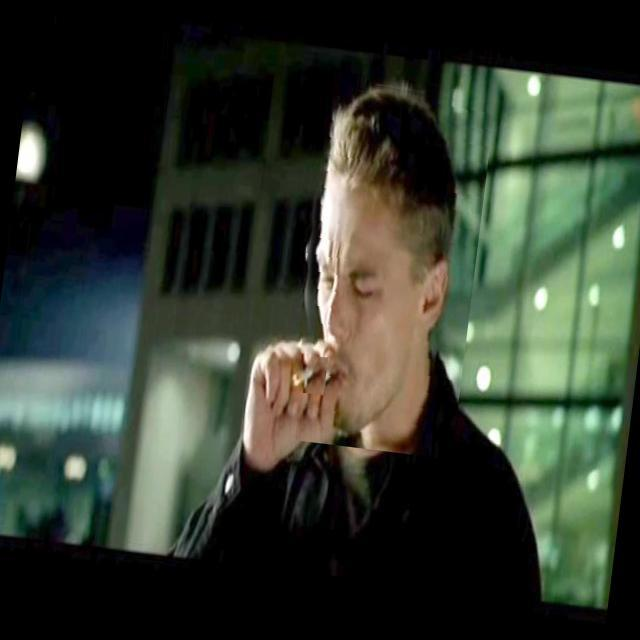cigarette: (290, 351, 328, 395)
